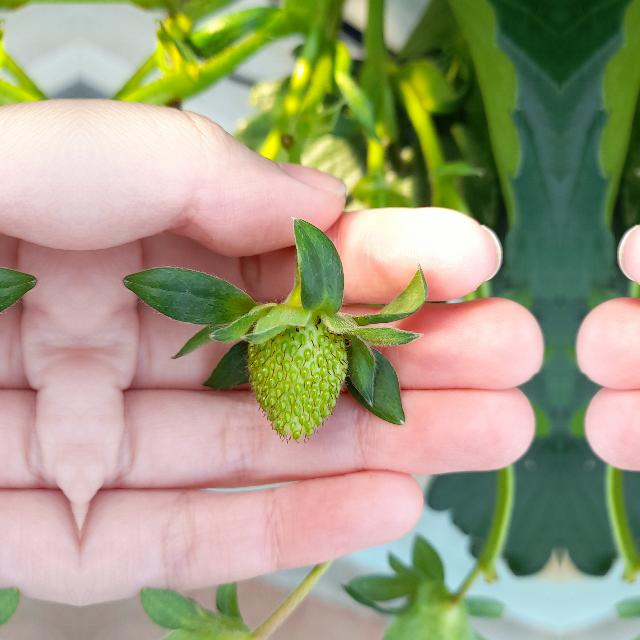Health_25: (244, 316, 348, 444)
